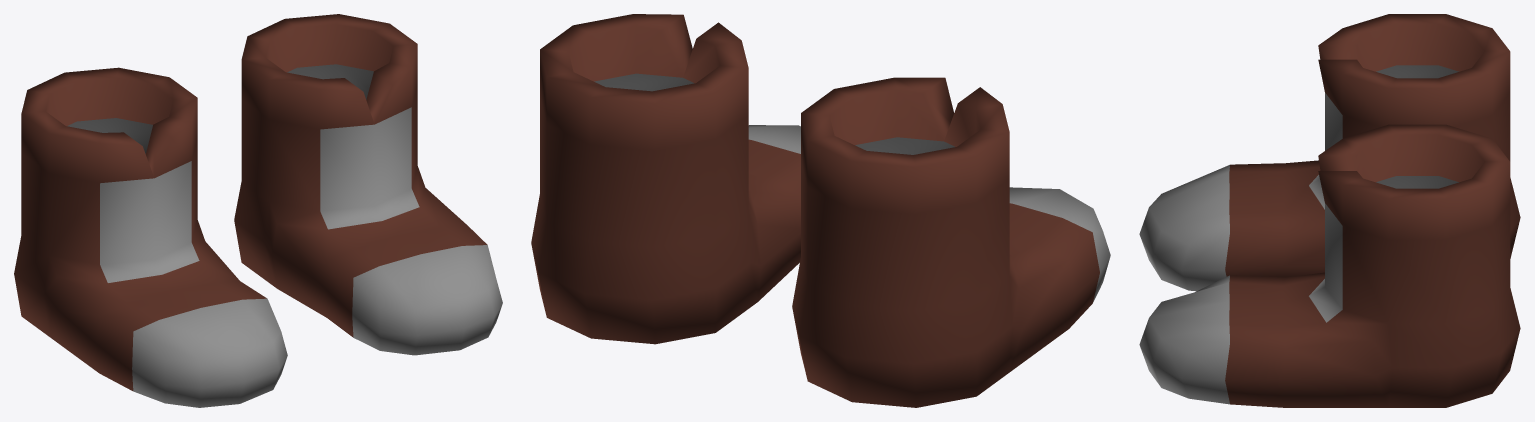
File: giay.fbx
The picture shows the model from 3 angles, left to right: view 1: azimuth 30°, elevation 25°; view 2: azimuth 150°, elevation 25°; view 3: azimuth 270°, elevation 25°; orthographic projection. The views are drawn at different scales.
Visible parts, largest first — view 1: giay; view 2: giay; view 3: giay.
Part boxes in pixels (<box>): giay: <box>14,14,502,407</box>; giay: <box>531,14,1110,407</box>; giay: <box>1139,14,1520,407</box>.
Bounding box in the file's own units: 88.88 × 45.79 × 75.69.
